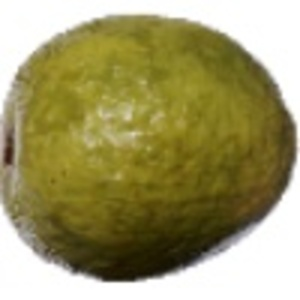goiaba: (2, 9, 295, 289)
